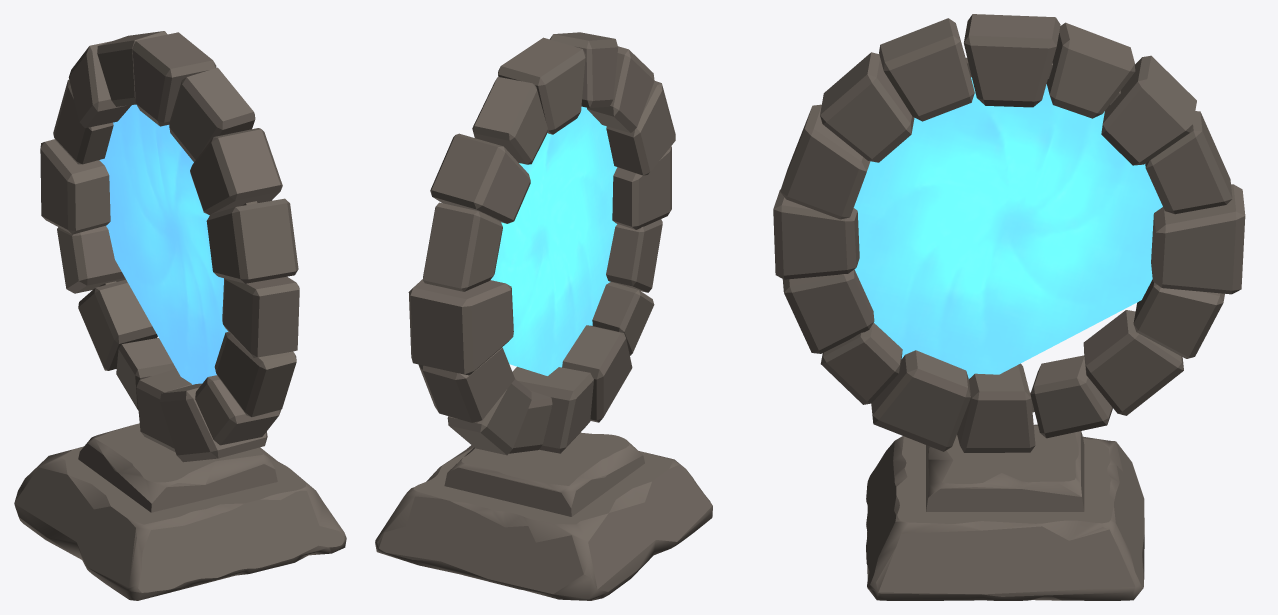
File: PRP_DomainPortal_B_lod.glb
The picture shows the model from 3 angles, left to right: view 1: azimuth 30°, elevation 25°; view 2: azimuth 150°, elevation 25°; view 3: azimuth 270°, elevation 25°; orthographic projection. The views are drawn at different scales.
Parts seen in each view (by area): view 1: Cube.008_Material.002_0, Cube.008_Material.009_0; view 2: Cube.008_Material.002_0, Cube.008_Material.009_0; view 3: Cube.008_Material.002_0, Cube.008_Material.009_0.
Part boxes in pixels (x1=…): Cube.008_Material.002_0: x1=14, y1=31, x2=346, y2=600; Cube.008_Material.009_0: x1=99, y1=104, x2=228, y2=384; Cube.008_Material.002_0: x1=375, y1=32, x2=712, y2=600; Cube.008_Material.009_0: x1=491, y1=106, x2=617, y2=375; Cube.008_Material.002_0: x1=773, y1=14, x2=1245, y2=600; Cube.008_Material.009_0: x1=853, y1=77, x2=1162, y2=378.
Bounding box in the file's own units: 6.29 × 12.88 × 11.79.
Materials: 2 (1 with a texture image).
